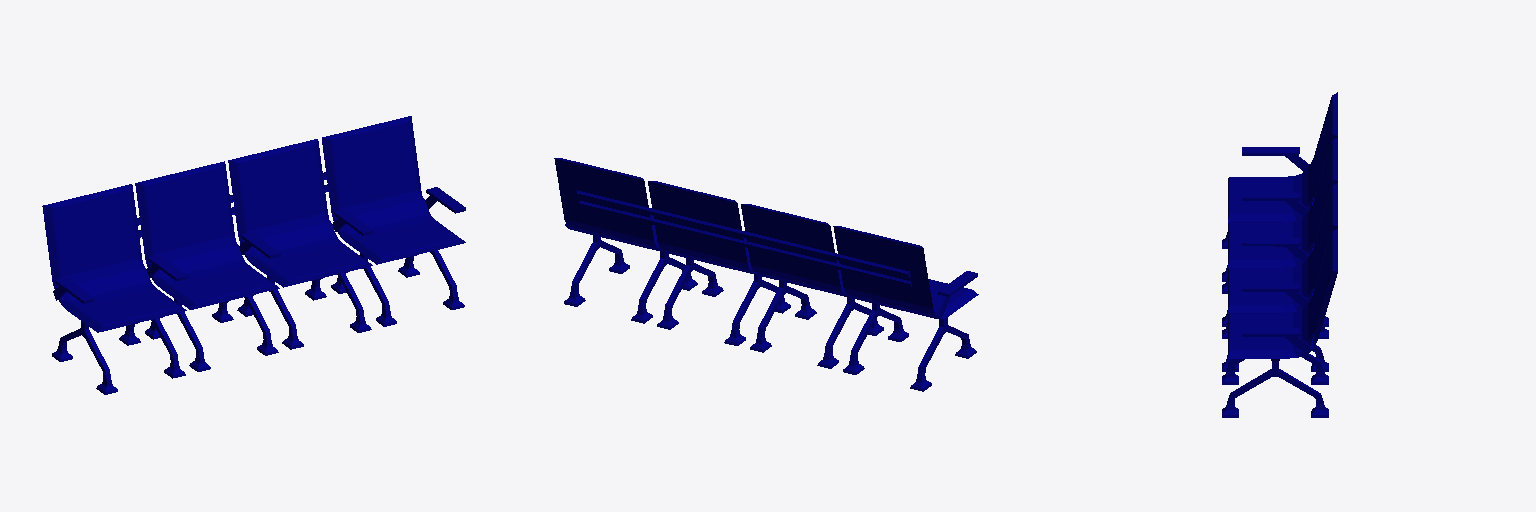
The model's file is sillas.obj.
3 renders of one model, left to right at view 1: azimuth 30°, elevation 25°; view 2: azimuth 150°, elevation 25°; view 3: azimuth 270°, elevation 25°, orthographic.
Visible parts, largest first — view 1: Chairs; view 2: Chairs; view 3: Chairs.
Boxes of the visible parts, box(x1,y1,x2,y2) form: Chairs: box(42, 116, 465, 394); Chairs: box(554, 158, 978, 391); Chairs: box(1222, 92, 1337, 417).
Bounding box in the file's own units: 1.08 × 0.3974 × 0.2832.